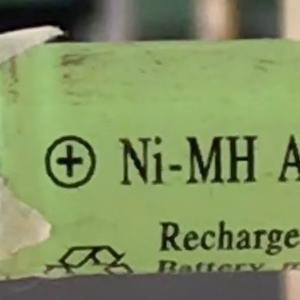NI-MH: (109, 126, 264, 195)
